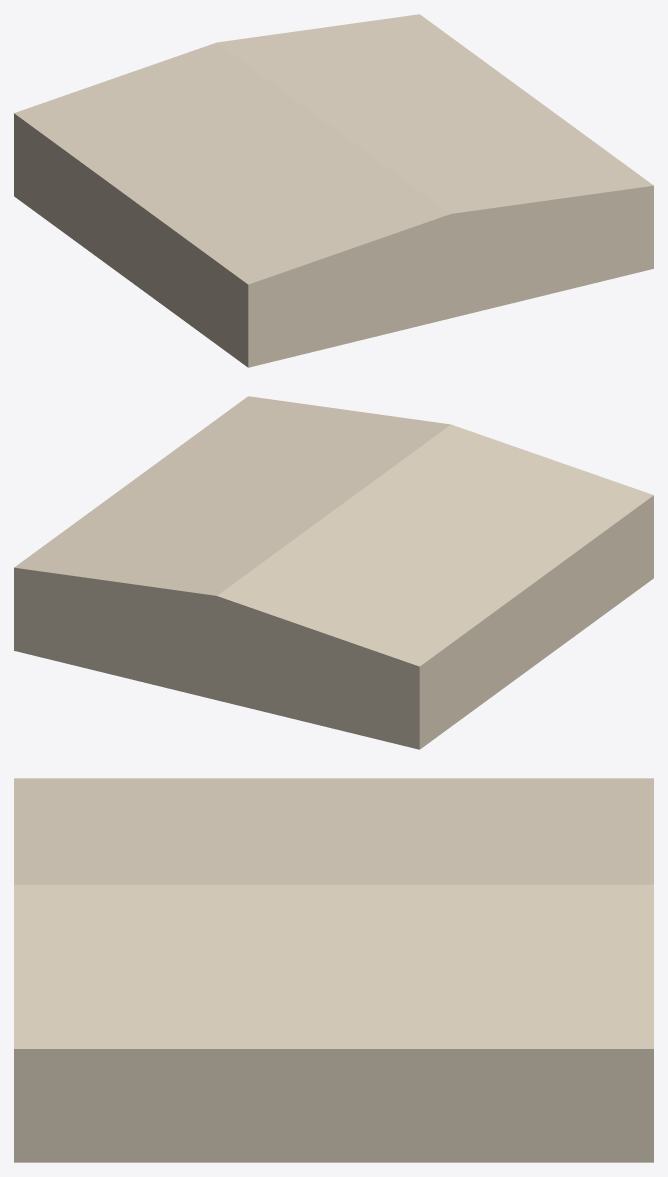
The model's file is Dirt_Gathered_Straight.glb.
3 views of the same model, one above another, from view 1: azimuth 30°, elevation 25°; view 2: azimuth 150°, elevation 25°; view 3: azimuth 270°, elevation 25° (orthographic). The views are drawn at different scales.
Parts seen in each view (by area): view 1: object1; view 2: object1; view 3: object1.
Boxes of the visible parts, x1,y1,x2,y2 form: object1: [14, 14, 653, 367]; object1: [14, 396, 653, 749]; object1: [14, 778, 653, 1162].
Size of the model in its own units: 1 by 0.2458 by 1.
